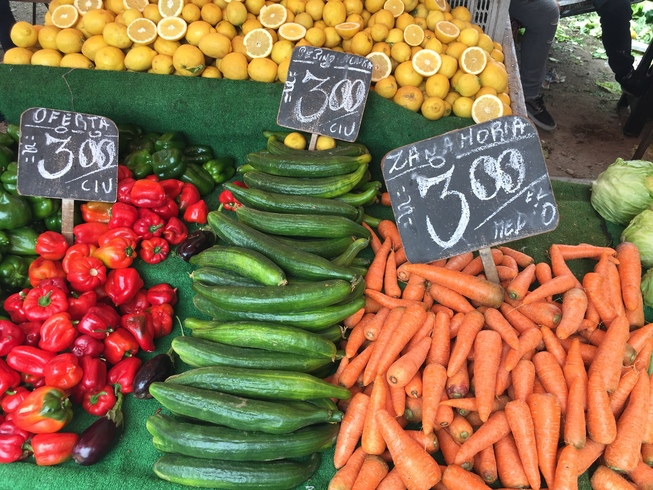precio: (376, 111, 563, 284), (5, 102, 131, 201), (278, 40, 378, 148)
